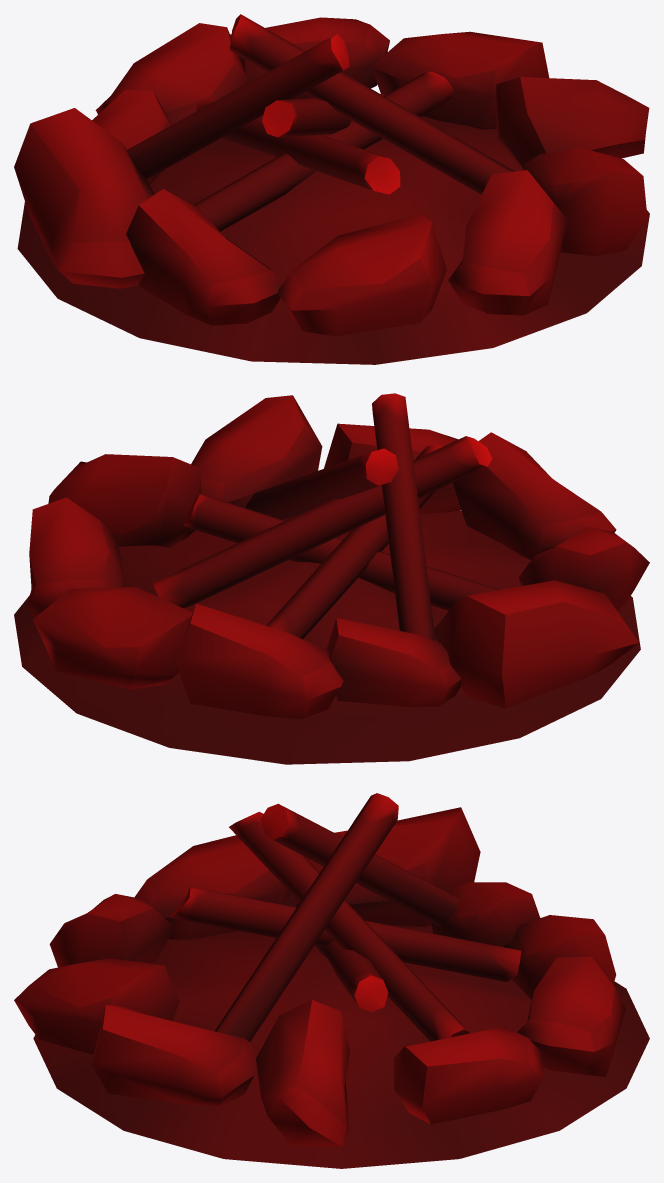
Rendered from Campfire.glb.
The picture shows the model from 3 angles, top to bottom: view 1: azimuth 30°, elevation 25°; view 2: azimuth 150°, elevation 25°; view 3: azimuth 270°, elevation 25°; orthographic projection. The views are drawn at different scales.
Parts seen in each view (by area): view 1: Campfire; view 2: Campfire; view 3: Campfire.
Part boxes in pixels (bbox=[...]): Campfire: bbox=[14, 14, 649, 364]; Campfire: bbox=[14, 393, 649, 764]; Campfire: bbox=[14, 793, 649, 1168].
Size of the model in its own units: 8.74 by 4.23 by 8.41.
